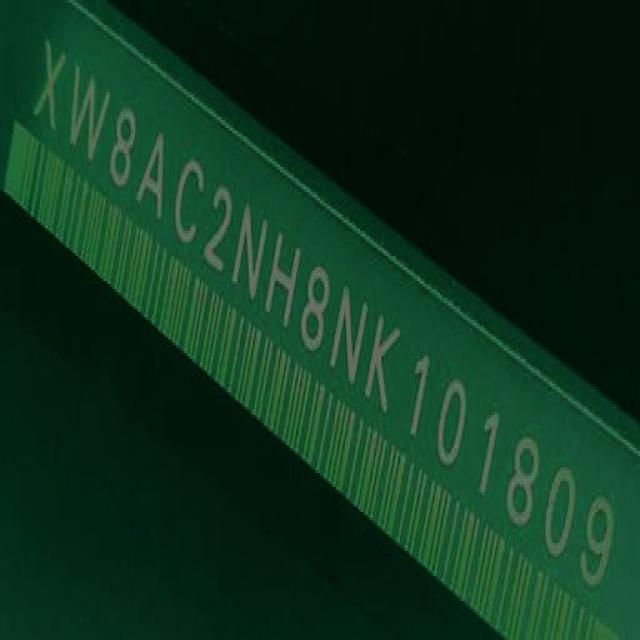0: (535, 454, 584, 574), (430, 365, 474, 478)
1: (466, 392, 509, 516), (400, 339, 440, 457)
2: (197, 168, 242, 284)
8: (499, 421, 549, 547), (102, 91, 145, 199), (300, 262, 331, 362)
9: (570, 486, 627, 606)
A: (133, 120, 178, 226)
C: (168, 146, 214, 257)
H: (262, 223, 307, 340)
K: (364, 301, 410, 425)
N: (227, 195, 277, 318), (328, 272, 377, 392)
W: (68, 66, 111, 159)
X: (25, 34, 78, 144)
